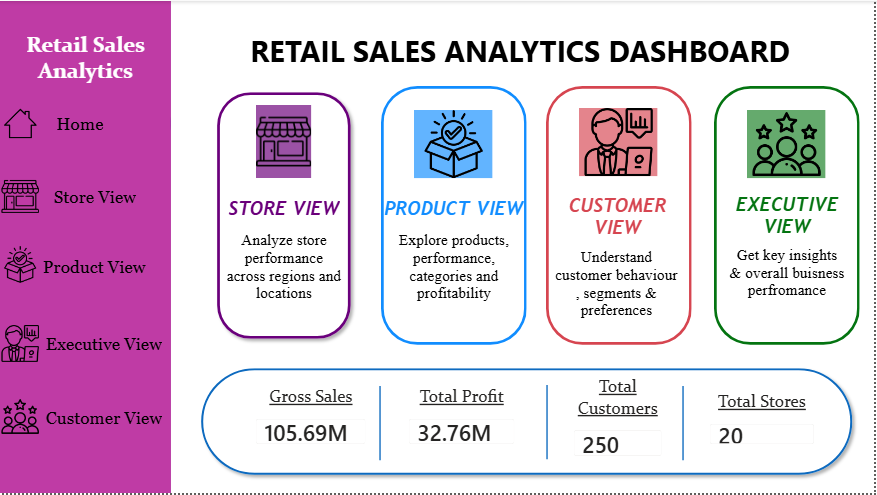

The page's visual inventory and layout, read from the dashboard file:
{"tool":"powerbi","page":{"name":"Home","canvas":[1280,720],"ordinal":0},"visuals":[{"type":"shape","box":[0,139.3,250.3,80.5],"z":0},{"type":"shape","box":[309.1,124.1,213.3,378.8],"z":1000},{"type":"shape","box":[557.3,124.1,213.3,378.8],"z":2000},{"type":"shape","box":[798.9,124.1,213.3,378.8],"z":3000},{"type":"shape","box":[1044.9,124.1,213.3,378.8],"z":4000},{"type":"shape","box":[0,0,250.3,720.5],"z":5000},{"type":"actionButton","box":[17.4,13.1,215.5,139.3],"z":6000},{"type":"actionButton","box":[69.7,259,137.1,54.4],"z":8000},{"type":"actionButton","box":[58.8,361.4,158.9,54.4],"z":9000},{"type":"actionButton","box":[69.7,152.4,93.6,54.4],"z":9500},{"type":"actionButton","box":[54.4,474.6,195.9,54.4],"z":10000},{"type":"actionButton","box":[54.4,583.4,195.9,52.2],"z":11000},{"type":"image","box":[6.5,152.4,47.9,54.4],"z":12000},{"type":"image","box":[0,259,58.8,54.4],"z":13000},{"type":"image","box":[0,359.2,58.8,54.4],"z":14000},{"type":"image","box":[0,474.6,58.8,54.4],"z":15000},{"type":"image","box":[0,581.2,58.8,54.4],"z":16000},{"type":"image","box":[374.4,152.4,80.5,106.7],"z":17000},{"type":"image","box":[605.2,158.9,115.4,100.1],"z":18000},{"type":"image","box":[846.8,156.7,115.4,100.1],"z":19000},{"type":"image","box":[1092.8,158.9,115.4,100.1],"z":20000},{"type":"actionButton","box":[326.5,274.3,178.5,58.8],"z":21000},{"type":"actionButton","box":[1044.9,274.3,213.3,80.5],"z":22000},{"type":"actionButton","box":[798.2,275,212.5,80.4],"z":23000},{"type":"actionButton","box":[557.3,274.3,213.3,58.8],"z":24000},{"type":"actionButton","box":[265.6,19.6,992.7,104.5],"z":25000},{"type":"shape","box":[285.2,529,970.9,174.1],"z":26000},{"type":"cardVisual","title":"Gross Sales","fields":{"Data":["Sum(SalesTable.Total Sales)"]},"box":[357,563.8,195.9,102.3],"z":27000},{"type":"cardVisual","title":"Total Profit","fields":{"Data":["Sum(SalesTable.Profit)"]},"box":[581.2,563.8,189.4,102.3],"z":28000},{"type":"cardVisual","title":"Total Customers","fields":{"Data":["CountNonNull(CustomersTable.CustomerID)"]},"box":[822.9,548.6,163.3,135],"z":29000},{"type":"cardVisual","title":"Total Stores","fields":{"Data":["CountNonNull(StoresTable.StoreID)"]},"box":[1021,570.3,187.2,95.8],"z":30000},{"type":"shape","box":[518.1,563.8,76.2,108.8],"z":31000},{"type":"shape","box":[962.2,563.8,76.2,108.8],"z":32000},{"type":"shape","box":[761.9,561.6,76.2,108.8],"z":33000},{"type":"actionButton","box":[326.5,313.5,178.5,152.4],"z":34000},{"type":"actionButton","box":[574.7,313.5,178.5,152.4],"z":35000},{"type":"actionButton","box":[805.4,337.5,194.6,151.8],"z":36000},{"type":"actionButton","box":[1062.3,322.2,178.5,152.4],"z":37000}]}

Visuals, with their boxes in screenshot pixels (x1, y1, x2, y2), scaled from the page's 1280x720 canvas onto the 877x495 screenshot:
shape: BBox(0, 96, 171, 151)
shape: BBox(212, 85, 358, 346)
shape: BBox(382, 85, 528, 346)
shape: BBox(547, 85, 694, 346)
shape: BBox(716, 85, 862, 346)
shape: BBox(0, 0, 171, 494)
actionButton: BBox(12, 9, 160, 105)
actionButton: BBox(48, 178, 142, 215)
actionButton: BBox(40, 248, 149, 286)
actionButton: BBox(48, 105, 112, 142)
actionButton: BBox(37, 326, 171, 364)
actionButton: BBox(37, 401, 171, 437)
image: BBox(4, 105, 37, 142)
image: BBox(0, 178, 40, 215)
image: BBox(0, 247, 40, 284)
image: BBox(0, 326, 40, 364)
image: BBox(0, 400, 40, 437)
image: BBox(257, 105, 312, 178)
image: BBox(415, 109, 494, 178)
image: BBox(580, 108, 659, 177)
image: BBox(749, 109, 828, 178)
actionButton: BBox(224, 189, 346, 229)
actionButton: BBox(716, 189, 862, 244)
actionButton: BBox(547, 189, 692, 244)
actionButton: BBox(382, 189, 528, 229)
actionButton: BBox(182, 13, 862, 85)
shape: BBox(195, 364, 861, 483)
"Gross Sales" cardVisual: BBox(245, 388, 379, 458)
"Total Profit" cardVisual: BBox(398, 388, 528, 458)
"Total Customers" cardVisual: BBox(564, 377, 676, 470)
"Total Stores" cardVisual: BBox(700, 392, 828, 458)
shape: BBox(355, 388, 407, 462)
shape: BBox(659, 388, 711, 462)
shape: BBox(522, 386, 574, 461)
actionButton: BBox(224, 216, 346, 320)
actionButton: BBox(394, 216, 516, 320)
actionButton: BBox(552, 232, 685, 336)
actionButton: BBox(728, 222, 850, 326)
